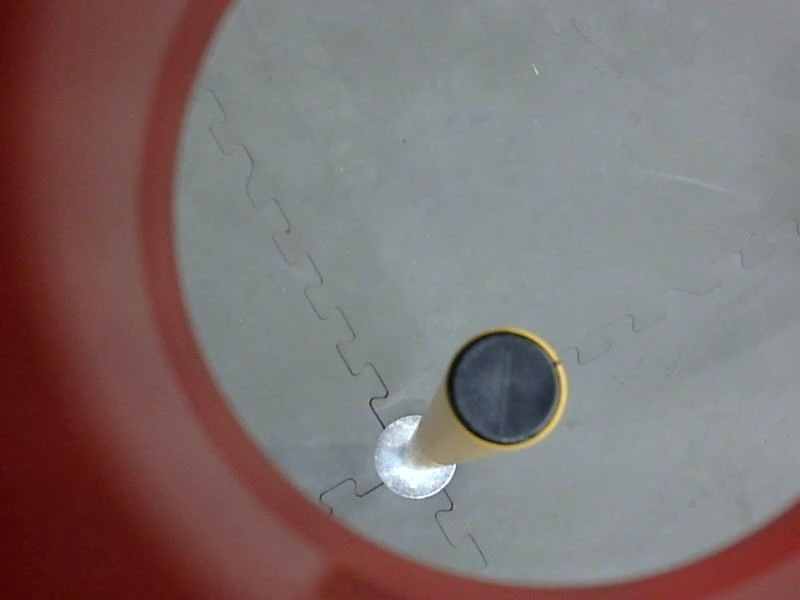tip: (439, 319, 572, 458)
